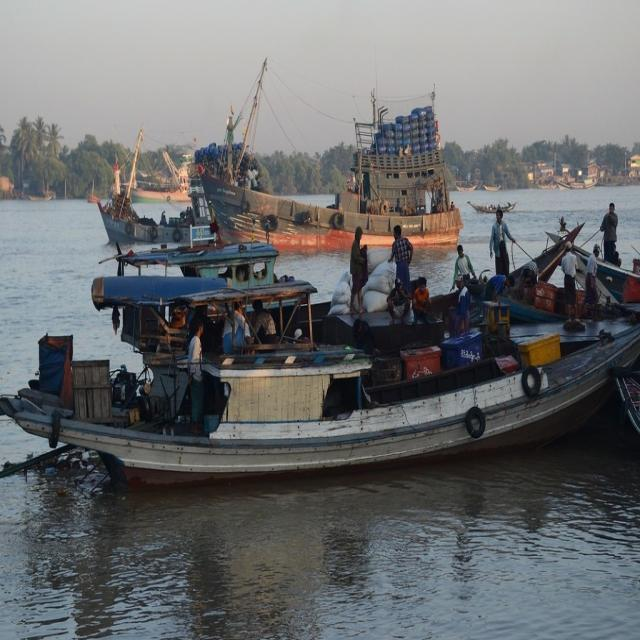boat: (22, 306, 640, 480), (197, 158, 476, 259), (468, 195, 520, 223)
